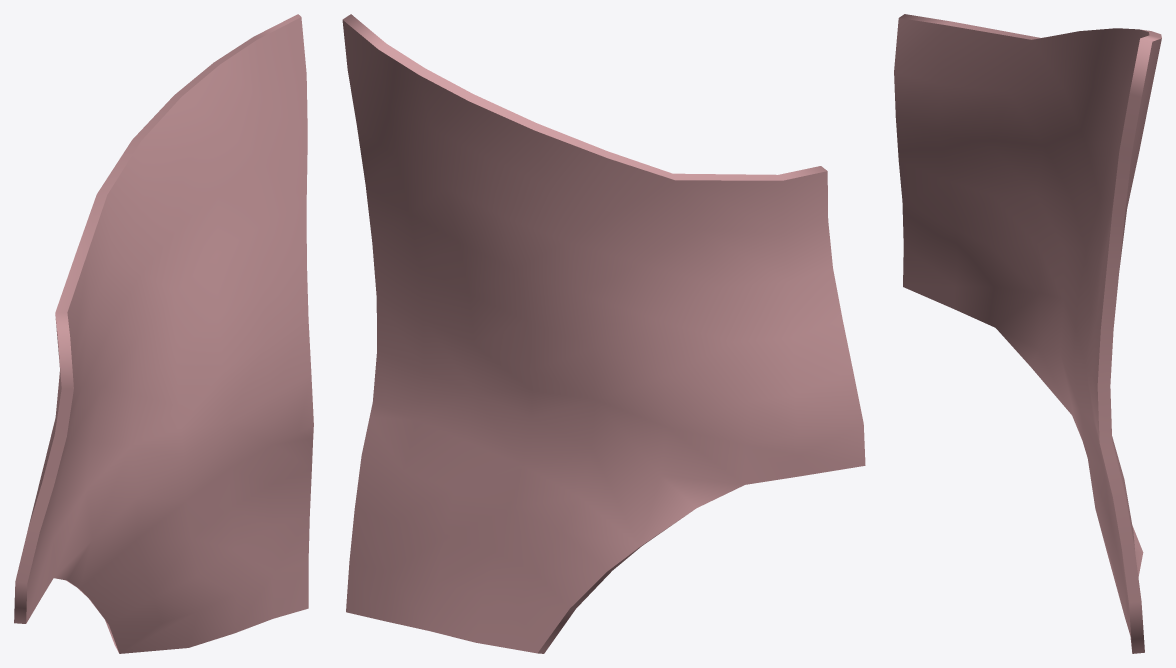
3 views of the same model, side by side, from view 1: azimuth 30°, elevation 25°; view 2: azimuth 150°, elevation 25°; view 3: azimuth 270°, elevation 25° (orthographic). The views are drawn at different scales.
Parts seen in each view (by area): view 1: ZA_ec5f4a42c929ab7c; view 2: ZA_ec5f4a42c929ab7c; view 3: ZA_ec5f4a42c929ab7c.
Part boxes in pixels (x1,y1,x2,y2): ZA_ec5f4a42c929ab7c: (14, 14, 313, 653); ZA_ec5f4a42c929ab7c: (342, 14, 865, 653); ZA_ec5f4a42c929ab7c: (894, 14, 1161, 653).
Bounding box in the file's own units: 0.1128 × 0.1603 × 0.0628.
